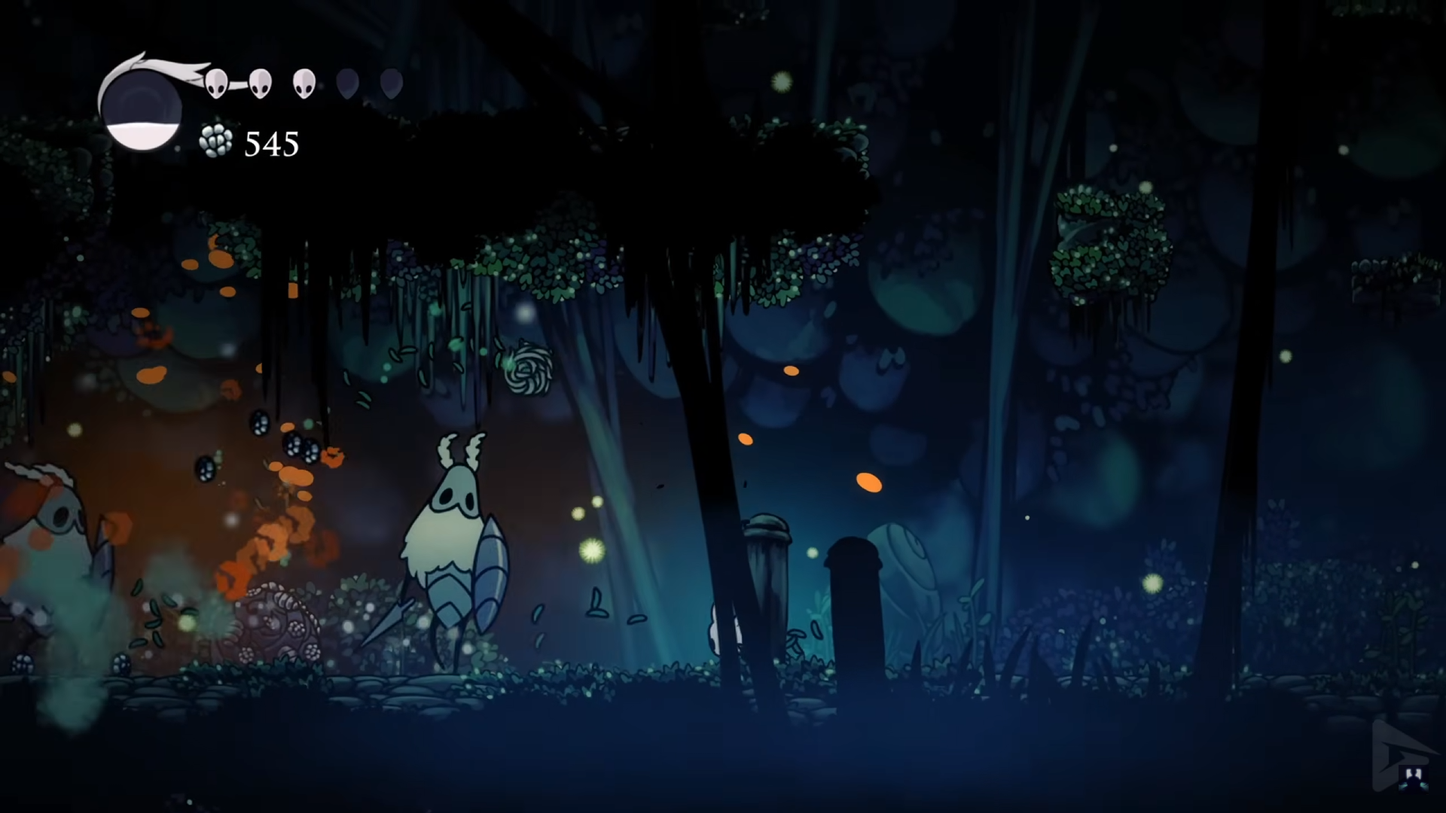HK: (707, 587, 771, 685)
